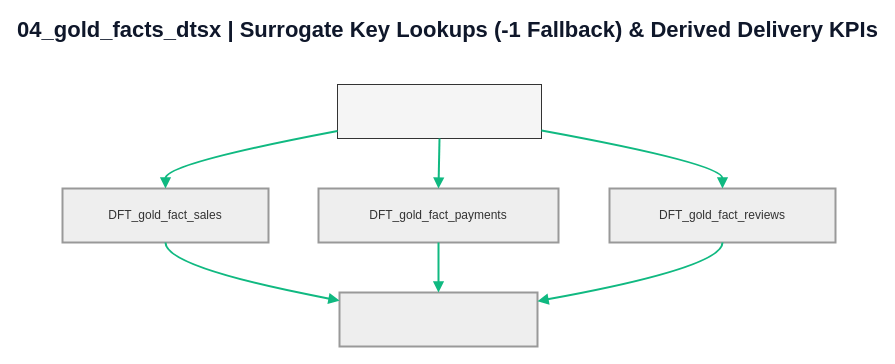
The diagram is 895 pixels wide and 364 high, and some of its shapes have lost their labels. The centre of each missing label's shape, as x and y in pixels:
SQL_log_gold_facts: point (438, 319)
truncate_gold_facts: point (439, 111)
